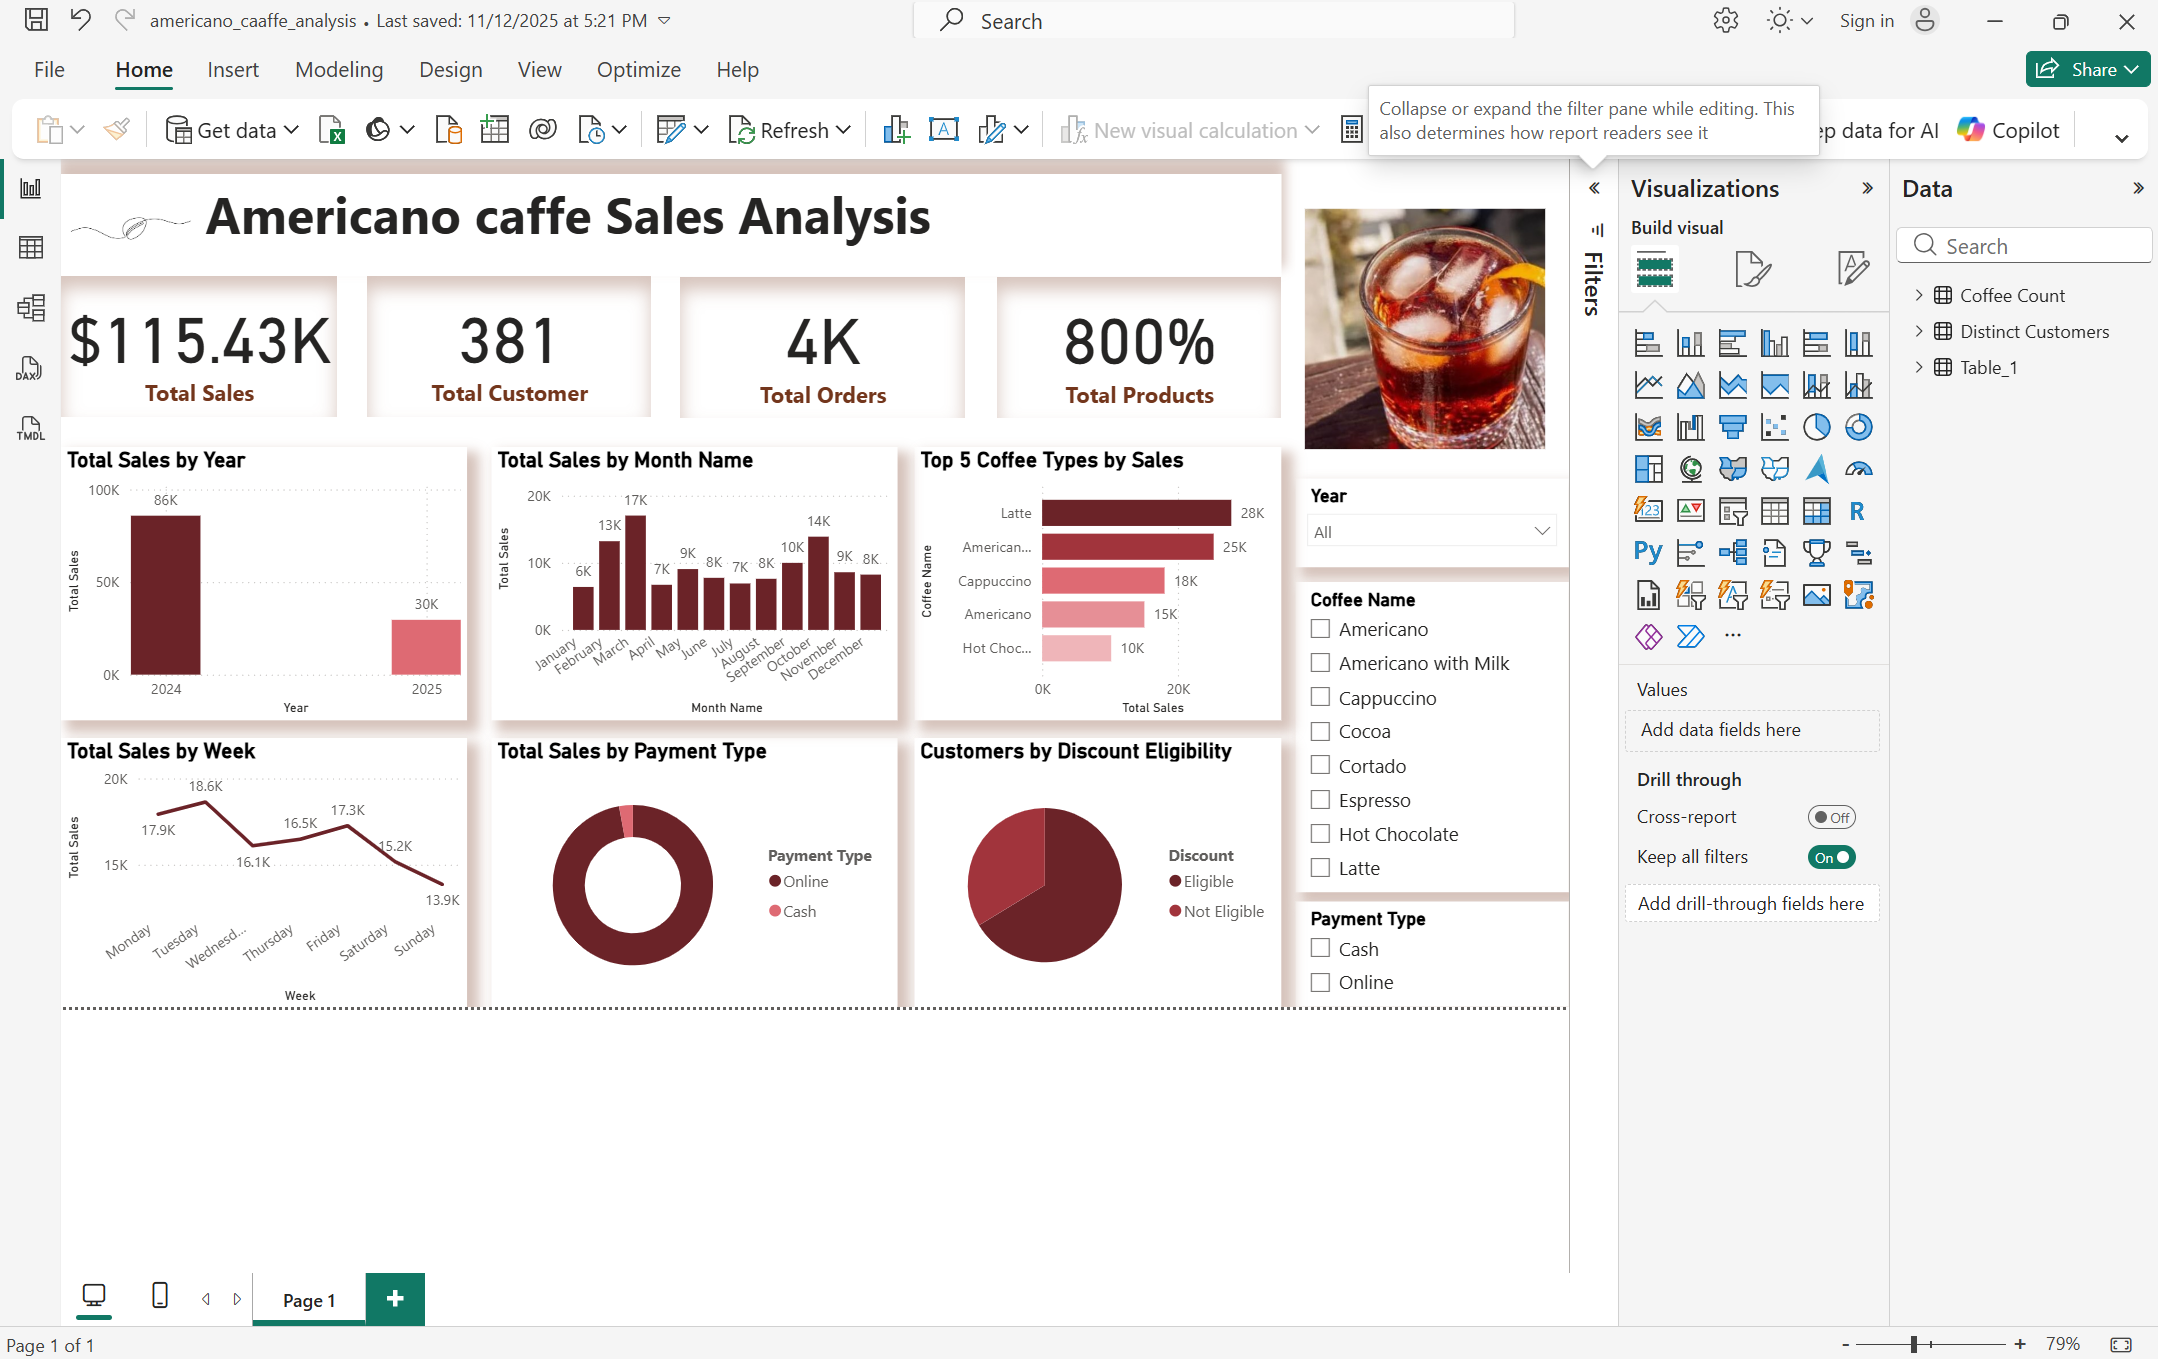

The dashboard page shown, as its layout file describes it:
{"tool":"powerbi","page":{"name":"Page 1","canvas":[1280,720],"ordinal":0},"visuals":[{"type":"textbox","box":[0,12.3,1036,86.4],"z":0},{"type":"card","fields":{"Values":["Coffee Count.Total Sales"]},"box":[0,98.8,234.6,119.4],"z":1000},{"type":"card","fields":{"Values":["CountNonNull(Distinct Customers.Customer Id)"]},"box":[259.3,98.8,241.5,119.4],"z":2000},{"type":"columnChart","fields":{"Category":["Table_1.Year"],"Y":["Coffee Count.Total Sales"]},"box":[0,244.3,344.4,231.9],"z":3000},{"type":"slicer","fields":{"Values":["Table_1.Year"]},"box":[1048.4,271.7,231.9,75.5],"z":4000},{"type":"slicer","fields":{"Values":["Table_1.Coffee Name"]},"box":[1048.4,359.5,231.9,263.5],"z":5000},{"type":"slicer","fields":{"Values":["Table_1.Payment Type"]},"box":[1048.4,629.8,231.9,89.2],"z":6000},{"type":"lineChart","fields":{"Y":["Coffee Count.Total Sales"],"Category":["Table_1.Week"]},"box":[0,491.3,344.4,229.2],"z":7000},{"type":"barChart","title":"Top 5 Coffee Types by Sales","fields":{"Category":["Table_1.Coffee Name"],"Y":["Coffee Count.Total Sales"]},"box":[724.5,244.3,311.5,231.9],"z":8000},{"type":"donutChart","fields":{"Y":["Coffee Count.Total Sales"],"Category":["Table_1.Payment Type"]},"box":[365,491.3,344.4,229.2],"z":9000},{"type":"pieChart","title":"Customers by Discount Eligibility","fields":{"Category":["Table_1.Discount"],"Y":["CountNonNull(Table_1.Customer Id)"]},"box":[724.5,491.3,311.5,229.2],"z":10000},{"type":"card","fields":{"Values":["Coffee Count.Total Orders"]},"box":[525.6,100.2,241.5,119.4],"z":11000},{"type":"card","fields":{"Values":["CountNonNull(Coffee Count.Count)"]},"box":[794.5,100.2,241.5,119.4],"z":12000},{"type":"image","box":[0,0,118,118],"z":13000},{"type":"columnChart","fields":{"Y":["Coffee Count.Total Sales"],"Category":["Table_1.Month Name"]},"box":[365,244.3,344.4,231.9],"z":14000},{"type":"textbox","box":[1048,69,232,150],"z":15000},{"type":"image","box":[1048.7,36.7,217.1,214],"z":15001}]}

Visuals, with their boxes on the page's 1280x720 design canvas (x1, y1, x2, y2). These are canvas units, not pixel positions in the 2158x1359 screenshot, which may show the page scaled, cropped or inside an application window:
textbox: (0,12,1036,99)
card - Coffee Count.Total Sales: (0,99,235,218)
card - CountNonNull(Distinct Customers.Customer Id): (259,99,501,218)
columnChart - Table_1.Year x Coffee Count.Total Sales: (0,244,344,476)
slicer - Table_1.Year: (1048,272,1280,347)
slicer - Table_1.Coffee Name: (1048,360,1280,623)
slicer - Table_1.Payment Type: (1048,630,1280,719)
lineChart - Coffee Count.Total Sales x Table_1.Week: (0,491,344,720)
"Top 5 Coffee Types by Sales" barChart: (724,244,1036,476)
donutChart - Coffee Count.Total Sales x Table_1.Payment Type: (365,491,709,720)
"Customers by Discount Eligibility" pieChart: (724,491,1036,720)
card - Coffee Count.Total Orders: (526,100,767,220)
card - CountNonNull(Coffee Count.Count): (794,100,1036,220)
image: (0,0,118,118)
columnChart - Coffee Count.Total Sales x Table_1.Month Name: (365,244,709,476)
textbox: (1048,69,1280,219)
image: (1049,37,1266,251)
